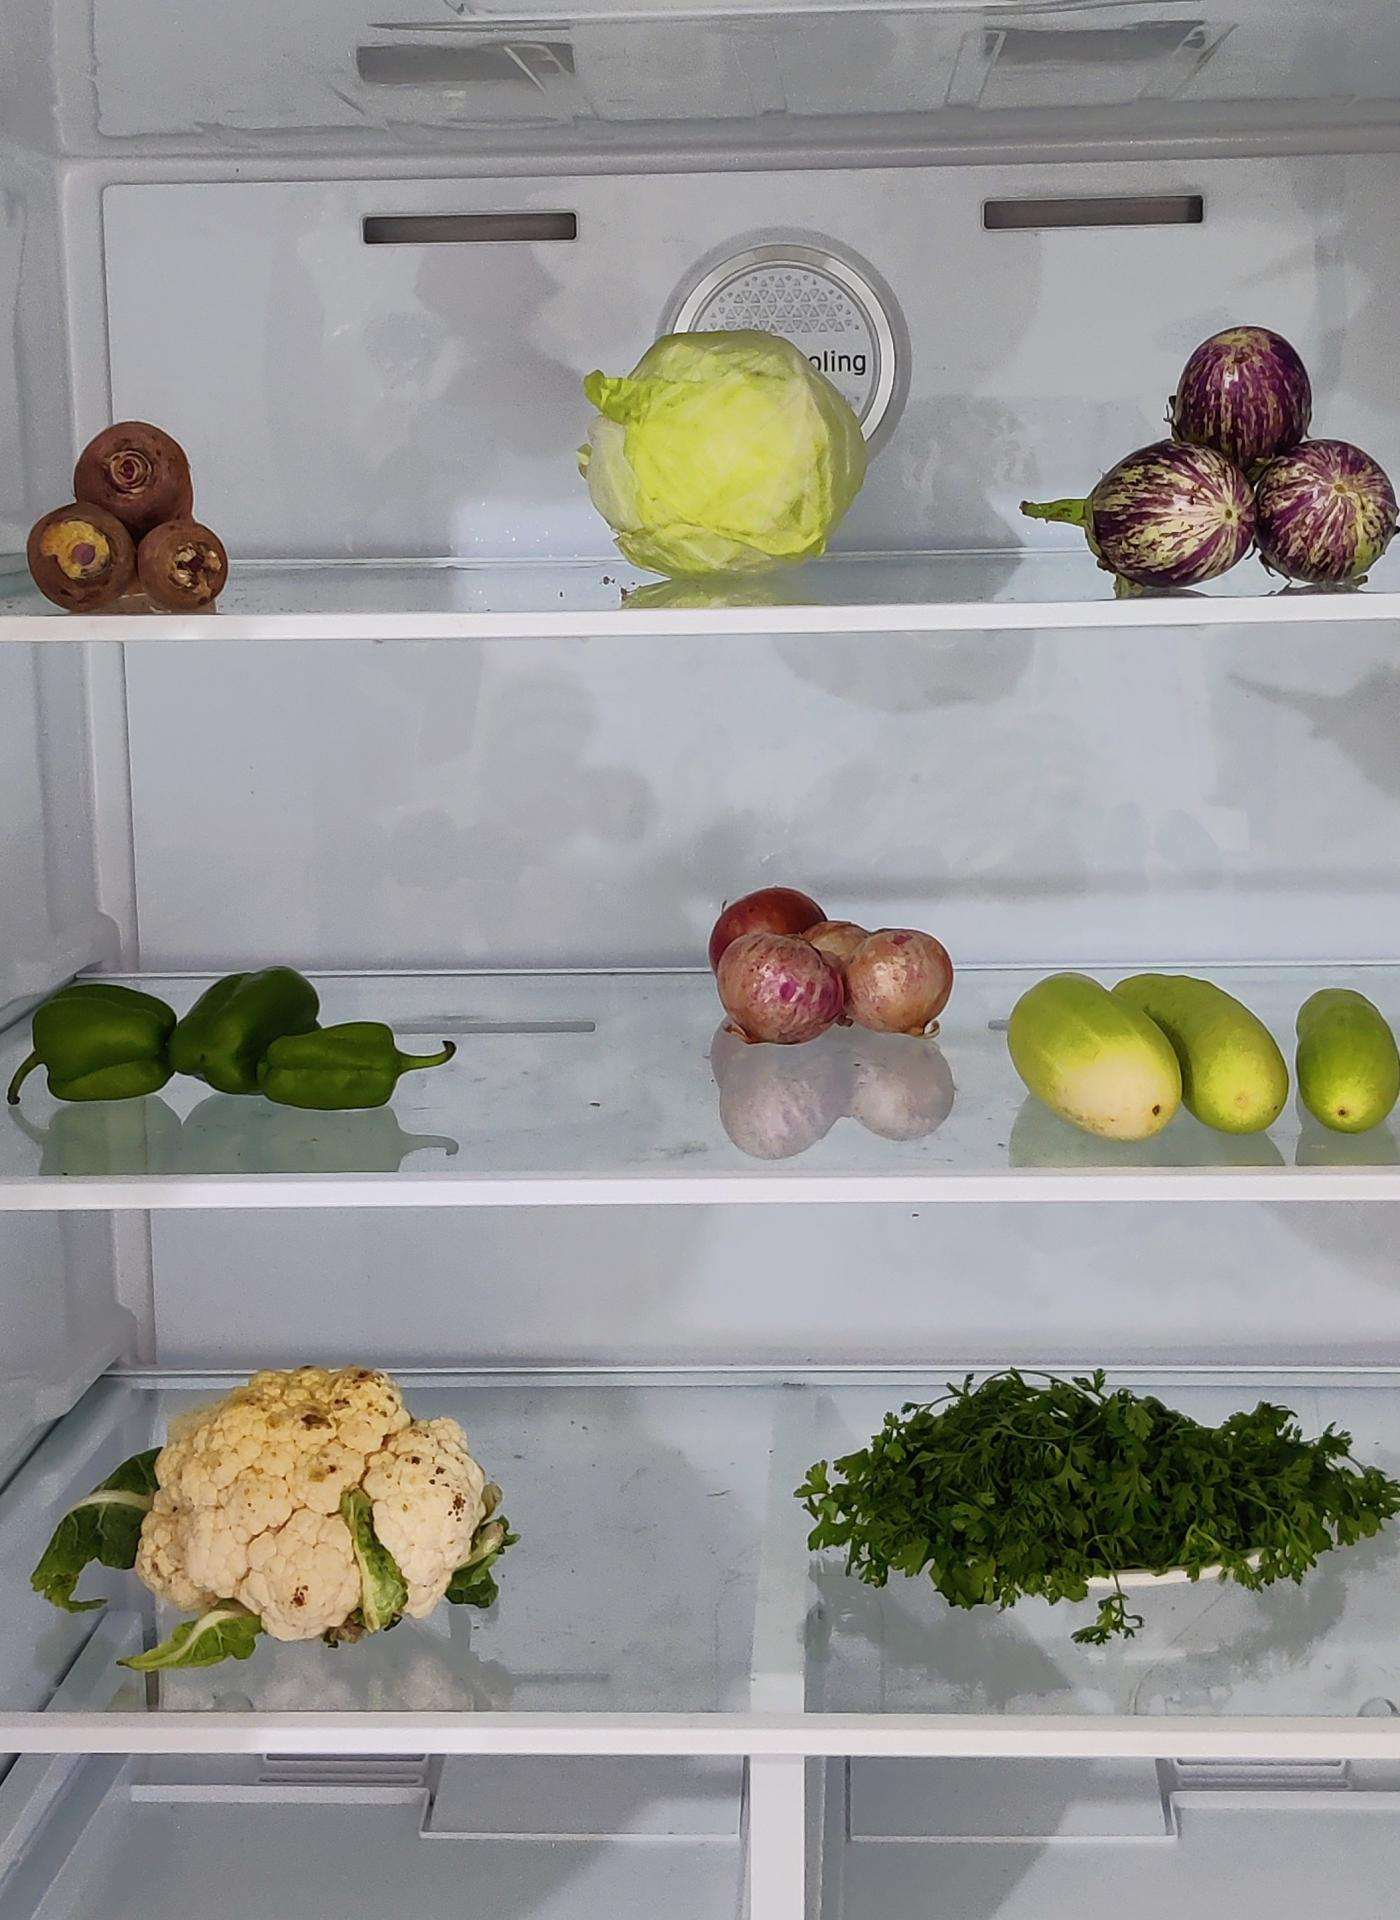brinjal: (1050, 319, 1382, 590)
cabbage: (580, 329, 871, 574)
capsicum: (12, 967, 443, 1117)
carrots: (27, 425, 236, 622)
cauliflower: (130, 1365, 507, 1641)
coriander: (810, 1376, 1400, 1607)
cucumber: (1014, 961, 1400, 1137)
onion: (707, 888, 956, 1054)
